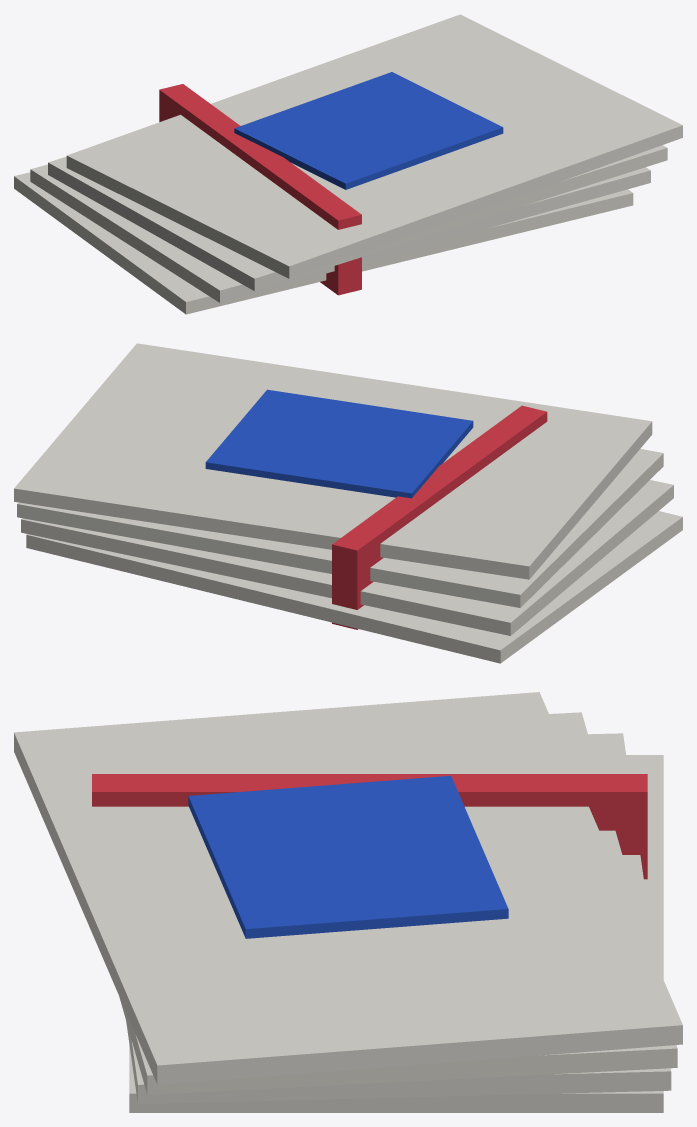
File: judge_cards.glb
3 views of the same model, one above another, from view 1: azimuth 30°, elevation 25°; view 2: azimuth 150°, elevation 25°; view 3: azimuth 270°, elevation 25° (orthographic). The views are drawn at different scales.
Visible parts, largest first — view 1: cards_card_white, ten_card_ten, band_rubber_band; view 2: cards_card_white, ten_card_ten, band_rubber_band; view 3: cards_card_white, ten_card_ten, band_rubber_band.
Part boxes in pixels (x1,y1,x2,y2): cards_card_white: [14, 14, 682, 314]; ten_card_ten: [234, 72, 503, 189]; band_rubber_band: [159, 84, 361, 295]; cards_card_white: [14, 343, 682, 663]; ten_card_ten: [205, 389, 473, 498]; band_rubber_band: [332, 405, 547, 629]; cards_card_white: [14, 692, 682, 1112]; ten_card_ten: [188, 775, 508, 938]; band_rubber_band: [92, 774, 647, 879].
Bounding box in the file's own units: 0.1697 × 0.0255 × 0.1252.
